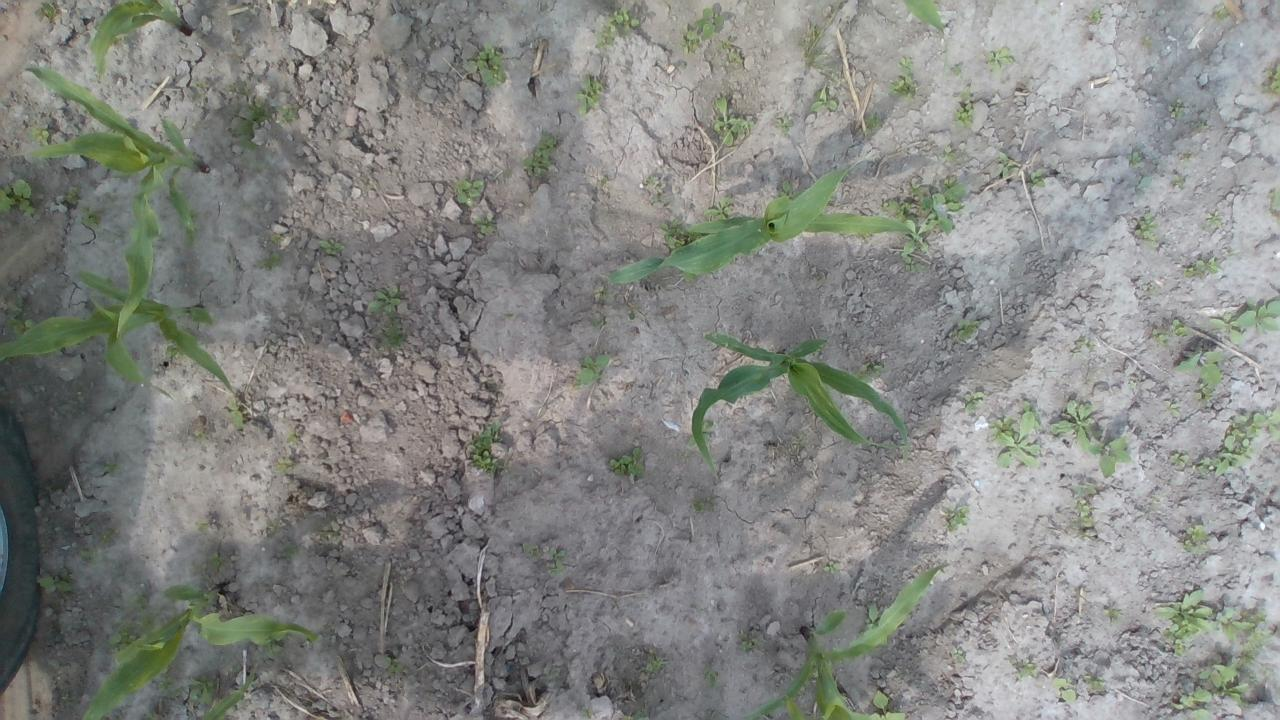Maize: (24, 62, 210, 342), (598, 162, 928, 288), (3, 273, 247, 440), (693, 332, 910, 483), (83, 585, 320, 720), (745, 563, 947, 720), (91, 0, 196, 85), (200, 666, 258, 720), (904, 0, 944, 34)
Weeds: (1200, 409, 1280, 477), (1156, 589, 1254, 643), (886, 174, 964, 232), (1173, 662, 1246, 718), (1241, 612, 1280, 690), (987, 419, 1041, 468), (1048, 400, 1094, 452), (711, 98, 756, 146), (1176, 347, 1226, 388), (682, 5, 718, 53), (232, 106, 268, 150), (466, 47, 506, 86), (525, 130, 558, 176), (470, 425, 503, 471), (1092, 436, 1129, 477), (1211, 311, 1256, 344), (890, 54, 921, 98), (578, 72, 609, 116), (804, 20, 830, 71), (1246, 296, 1280, 332), (2, 179, 34, 216), (367, 286, 405, 317), (868, 690, 906, 720), (610, 447, 646, 478), (578, 356, 610, 390), (1016, 400, 1042, 441), (38, 570, 76, 596), (901, 220, 930, 254), (810, 80, 840, 112), (955, 82, 976, 127), (1164, 623, 1192, 654), (950, 319, 980, 347), (664, 217, 689, 248), (1052, 676, 1077, 704), (1184, 524, 1209, 552), (190, 676, 218, 701), (456, 180, 485, 204), (994, 151, 1016, 180), (986, 48, 1015, 70), (1263, 62, 1280, 98), (1008, 656, 1034, 679), (383, 322, 407, 346), (34, 3, 59, 26), (595, 22, 617, 48), (548, 550, 568, 578), (773, 114, 796, 138), (710, 198, 734, 220), (946, 505, 966, 530), (724, 45, 744, 70), (615, 6, 640, 26), (110, 631, 136, 650), (228, 402, 246, 429), (1160, 401, 1184, 421), (1136, 215, 1156, 239), (205, 551, 228, 571), (701, 660, 719, 684), (961, 393, 986, 410), (864, 601, 878, 630), (10, 316, 34, 332), (865, 109, 883, 130), (79, 548, 100, 566), (257, 254, 279, 271), (1027, 169, 1050, 185), (1205, 210, 1224, 229), (228, 78, 248, 96), (944, 144, 962, 163), (82, 209, 100, 228), (739, 633, 755, 654), (857, 364, 878, 380), (1072, 340, 1096, 354), (278, 104, 294, 125), (1086, 670, 1104, 688), (1102, 604, 1122, 620), (322, 240, 343, 255), (1200, 258, 1222, 272), (644, 661, 666, 675), (100, 527, 116, 546), (590, 312, 608, 328), (137, 595, 153, 613), (526, 546, 544, 562), (1195, 384, 1214, 399), (1150, 329, 1169, 344), (276, 457, 296, 471), (159, 677, 173, 697), (643, 177, 661, 192), (781, 180, 799, 195), (31, 127, 50, 141), (66, 188, 80, 207), (1136, 176, 1154, 190), (194, 428, 212, 442), (1074, 500, 1089, 516), (1170, 318, 1186, 333), (592, 282, 604, 302), (1171, 452, 1188, 466), (1088, 8, 1102, 25), (479, 221, 497, 234), (824, 560, 840, 574), (1169, 103, 1185, 117), (694, 496, 708, 512), (1185, 264, 1200, 278), (387, 658, 401, 673), (268, 231, 284, 244), (952, 646, 966, 660), (1144, 286, 1159, 298), (288, 426, 298, 443), (953, 63, 966, 76), (1180, 150, 1192, 164), (1213, 4, 1227, 16), (268, 642, 282, 654), (104, 462, 119, 473), (1128, 152, 1140, 164), (199, 522, 211, 534), (198, 78, 212, 88), (905, 256, 915, 270), (686, 274, 699, 282), (1142, 36, 1153, 44), (628, 310, 636, 320)
